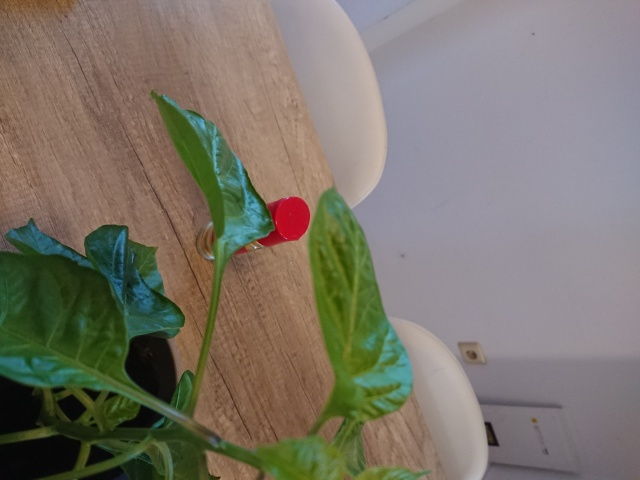Kotanyi Curry Spices Mix 70g: (194, 194, 312, 263)
